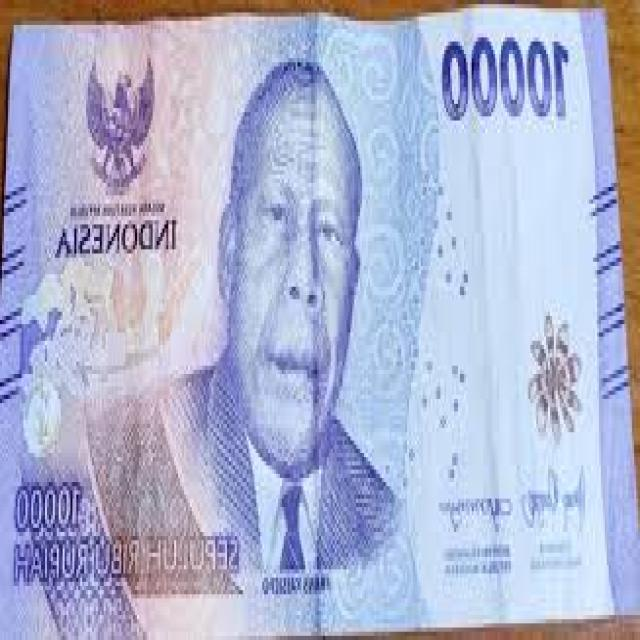sepuluh ribu rupiah: (2, 8, 640, 636)
